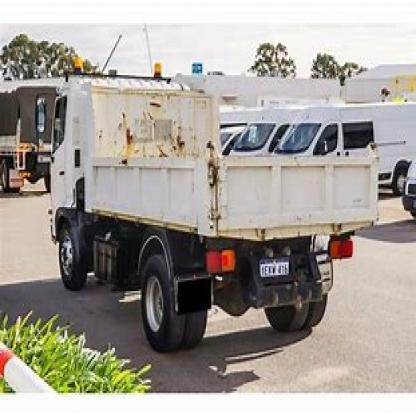dump_truck: (36, 59, 388, 361)
